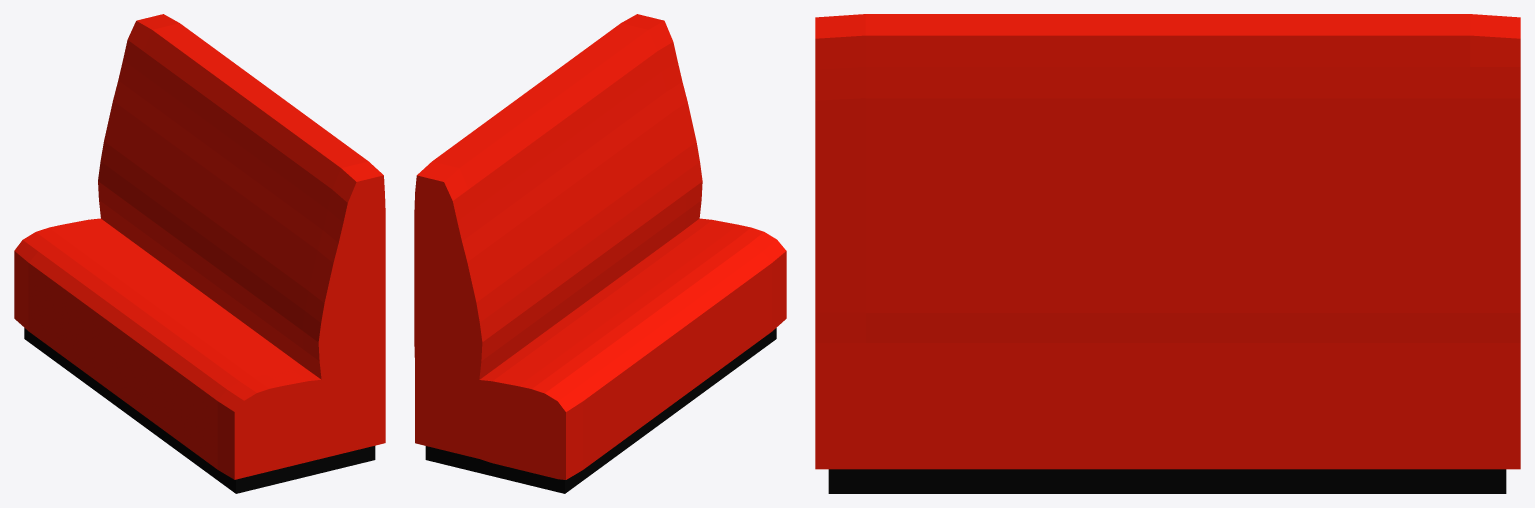
Rendered from sofa.fbx.
3 renders of one model, left to right at view 1: azimuth 30°, elevation 25°; view 2: azimuth 150°, elevation 25°; view 3: azimuth 270°, elevation 25°, orthographic. The views are drawn at different scales.
Parts seen in each view (by area): view 1: Plane, Plane.001; view 2: Plane, Plane.001; view 3: Plane, Plane.001.
Part boxes in pixels (box(x1,y1,x2,y2)): Plane: box(14, 14, 385, 479); Plane.001: box(24, 328, 375, 493); Plane: box(414, 14, 786, 479); Plane.001: box(425, 328, 776, 493); Plane: box(815, 14, 1520, 469); Plane.001: box(828, 469, 1506, 493).
Bounding box in the file's own units: 200 × 361 × 499.
